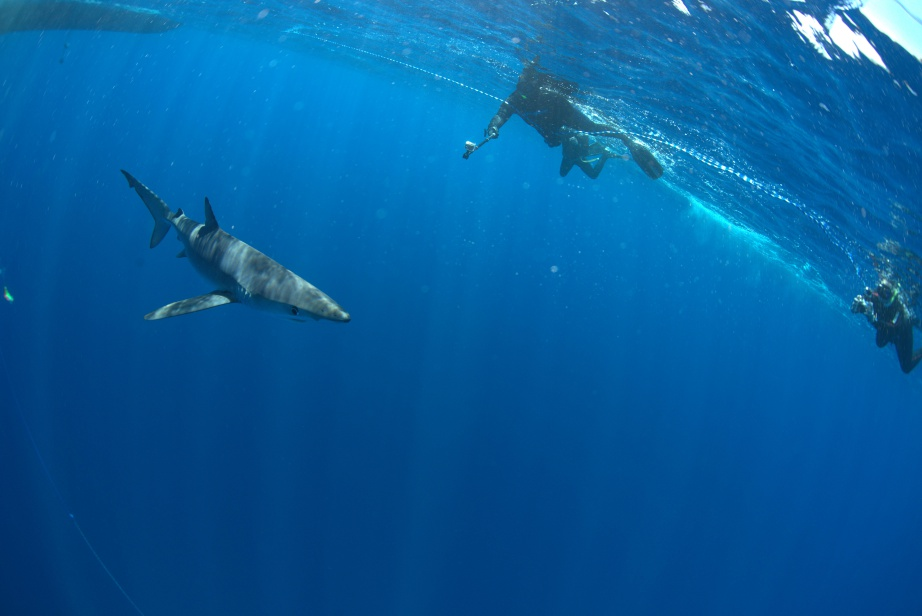Azul: (100, 161, 364, 342)
